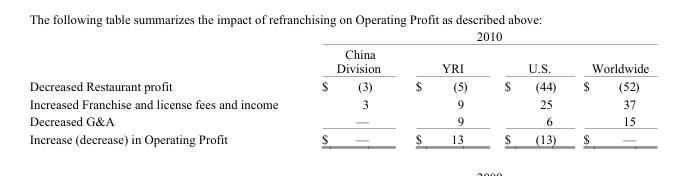table: (28, 28, 648, 145)
table column: (28, 28, 299, 145), (299, 28, 397, 145), (397, 28, 485, 145), (485, 28, 568, 145), (568, 28, 648, 145)
table column header: (28, 28, 648, 76)
table row: (28, 44, 648, 76), (28, 76, 648, 94), (28, 111, 648, 129), (28, 94, 648, 111), (28, 28, 648, 44), (28, 129, 648, 145)
table spanning cell: (299, 28, 648, 44)
